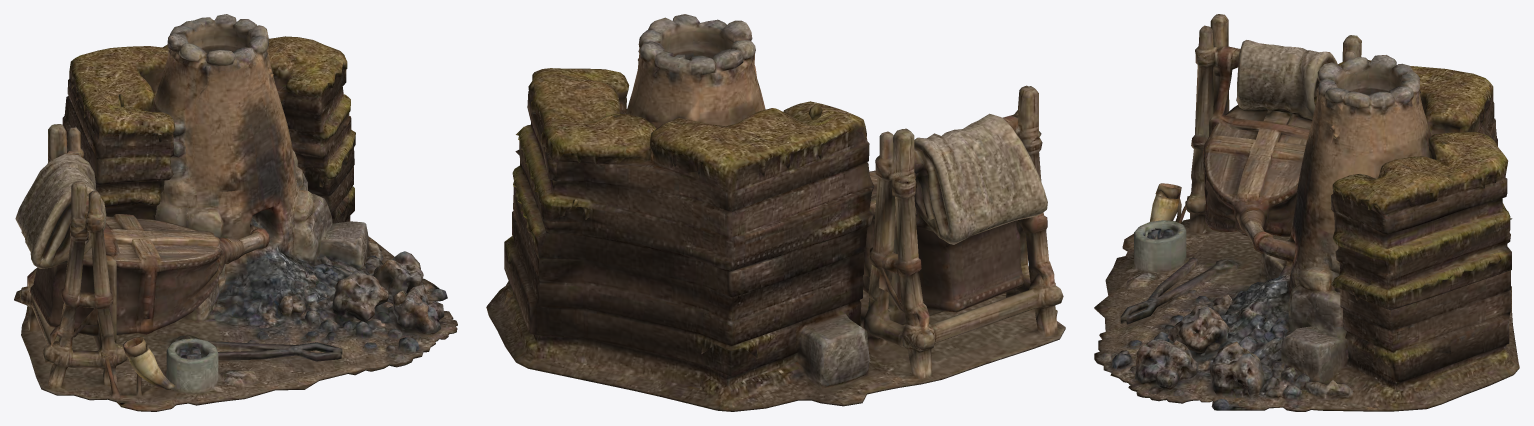
Rendered from kit_lw_bloomery.glb.
3 renders of one model, left to right at view 1: azimuth 30°, elevation 25°; view 2: azimuth 150°, elevation 25°; view 3: azimuth 270°, elevation 25°, orthographic. The views are drawn at different scales.
Visible parts, largest first — view 1: kit_lw_bloomery; view 2: kit_lw_bloomery; view 3: kit_lw_bloomery.
Part boxes in pixels (x1=…): kit_lw_bloomery: x1=14, y1=14, x2=457, y2=411; kit_lw_bloomery: x1=486, y1=14, x2=1065, y2=411; kit_lw_bloomery: x1=1094, y1=14, x2=1519, y2=411.
Size of the model in its own units: 2.7 by 1.6 by 2.39.
Materials: 1 (1 with a texture image).
